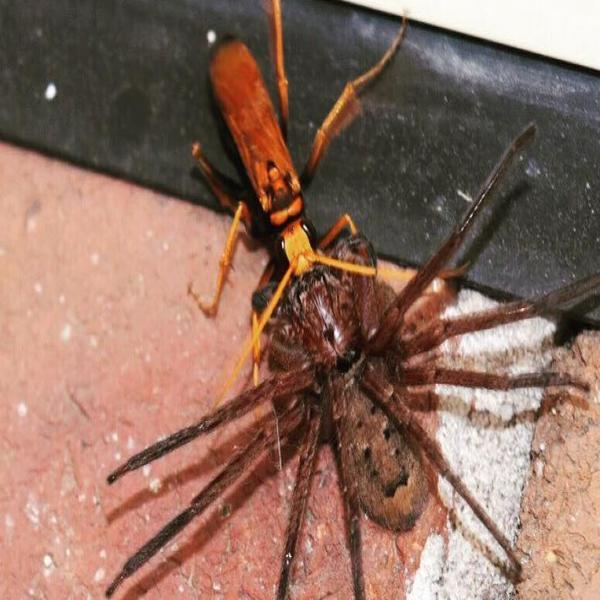Huntsman Spider: (121, 128, 594, 592)
